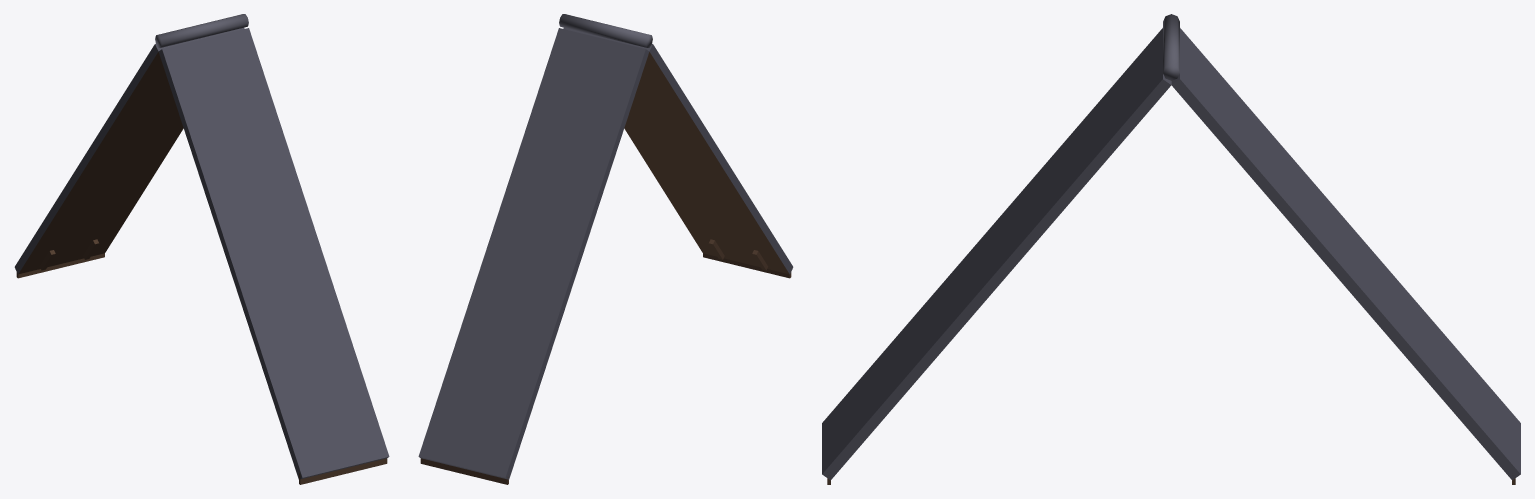
The model's file is kit_church_slate_w5.glb.
3 views of the same model, side by side, from view 1: azimuth 30°, elevation 25°; view 2: azimuth 150°, elevation 25°; view 3: azimuth 270°, elevation 25° (orthographic). The views are drawn at different scales.
Parts seen in each view (by area): view 1: kit_church_slate_w5; view 2: kit_church_slate_w5; view 3: kit_church_slate_w5.
Boxes of the visible parts, x1,y1,x2,y2 form: kit_church_slate_w5: (14,14,389,484); kit_church_slate_w5: (418,14,793,484); kit_church_slate_w5: (822,14,1520,484).
Size of the model in its own units: 1 by 3.8 by 5.74.
